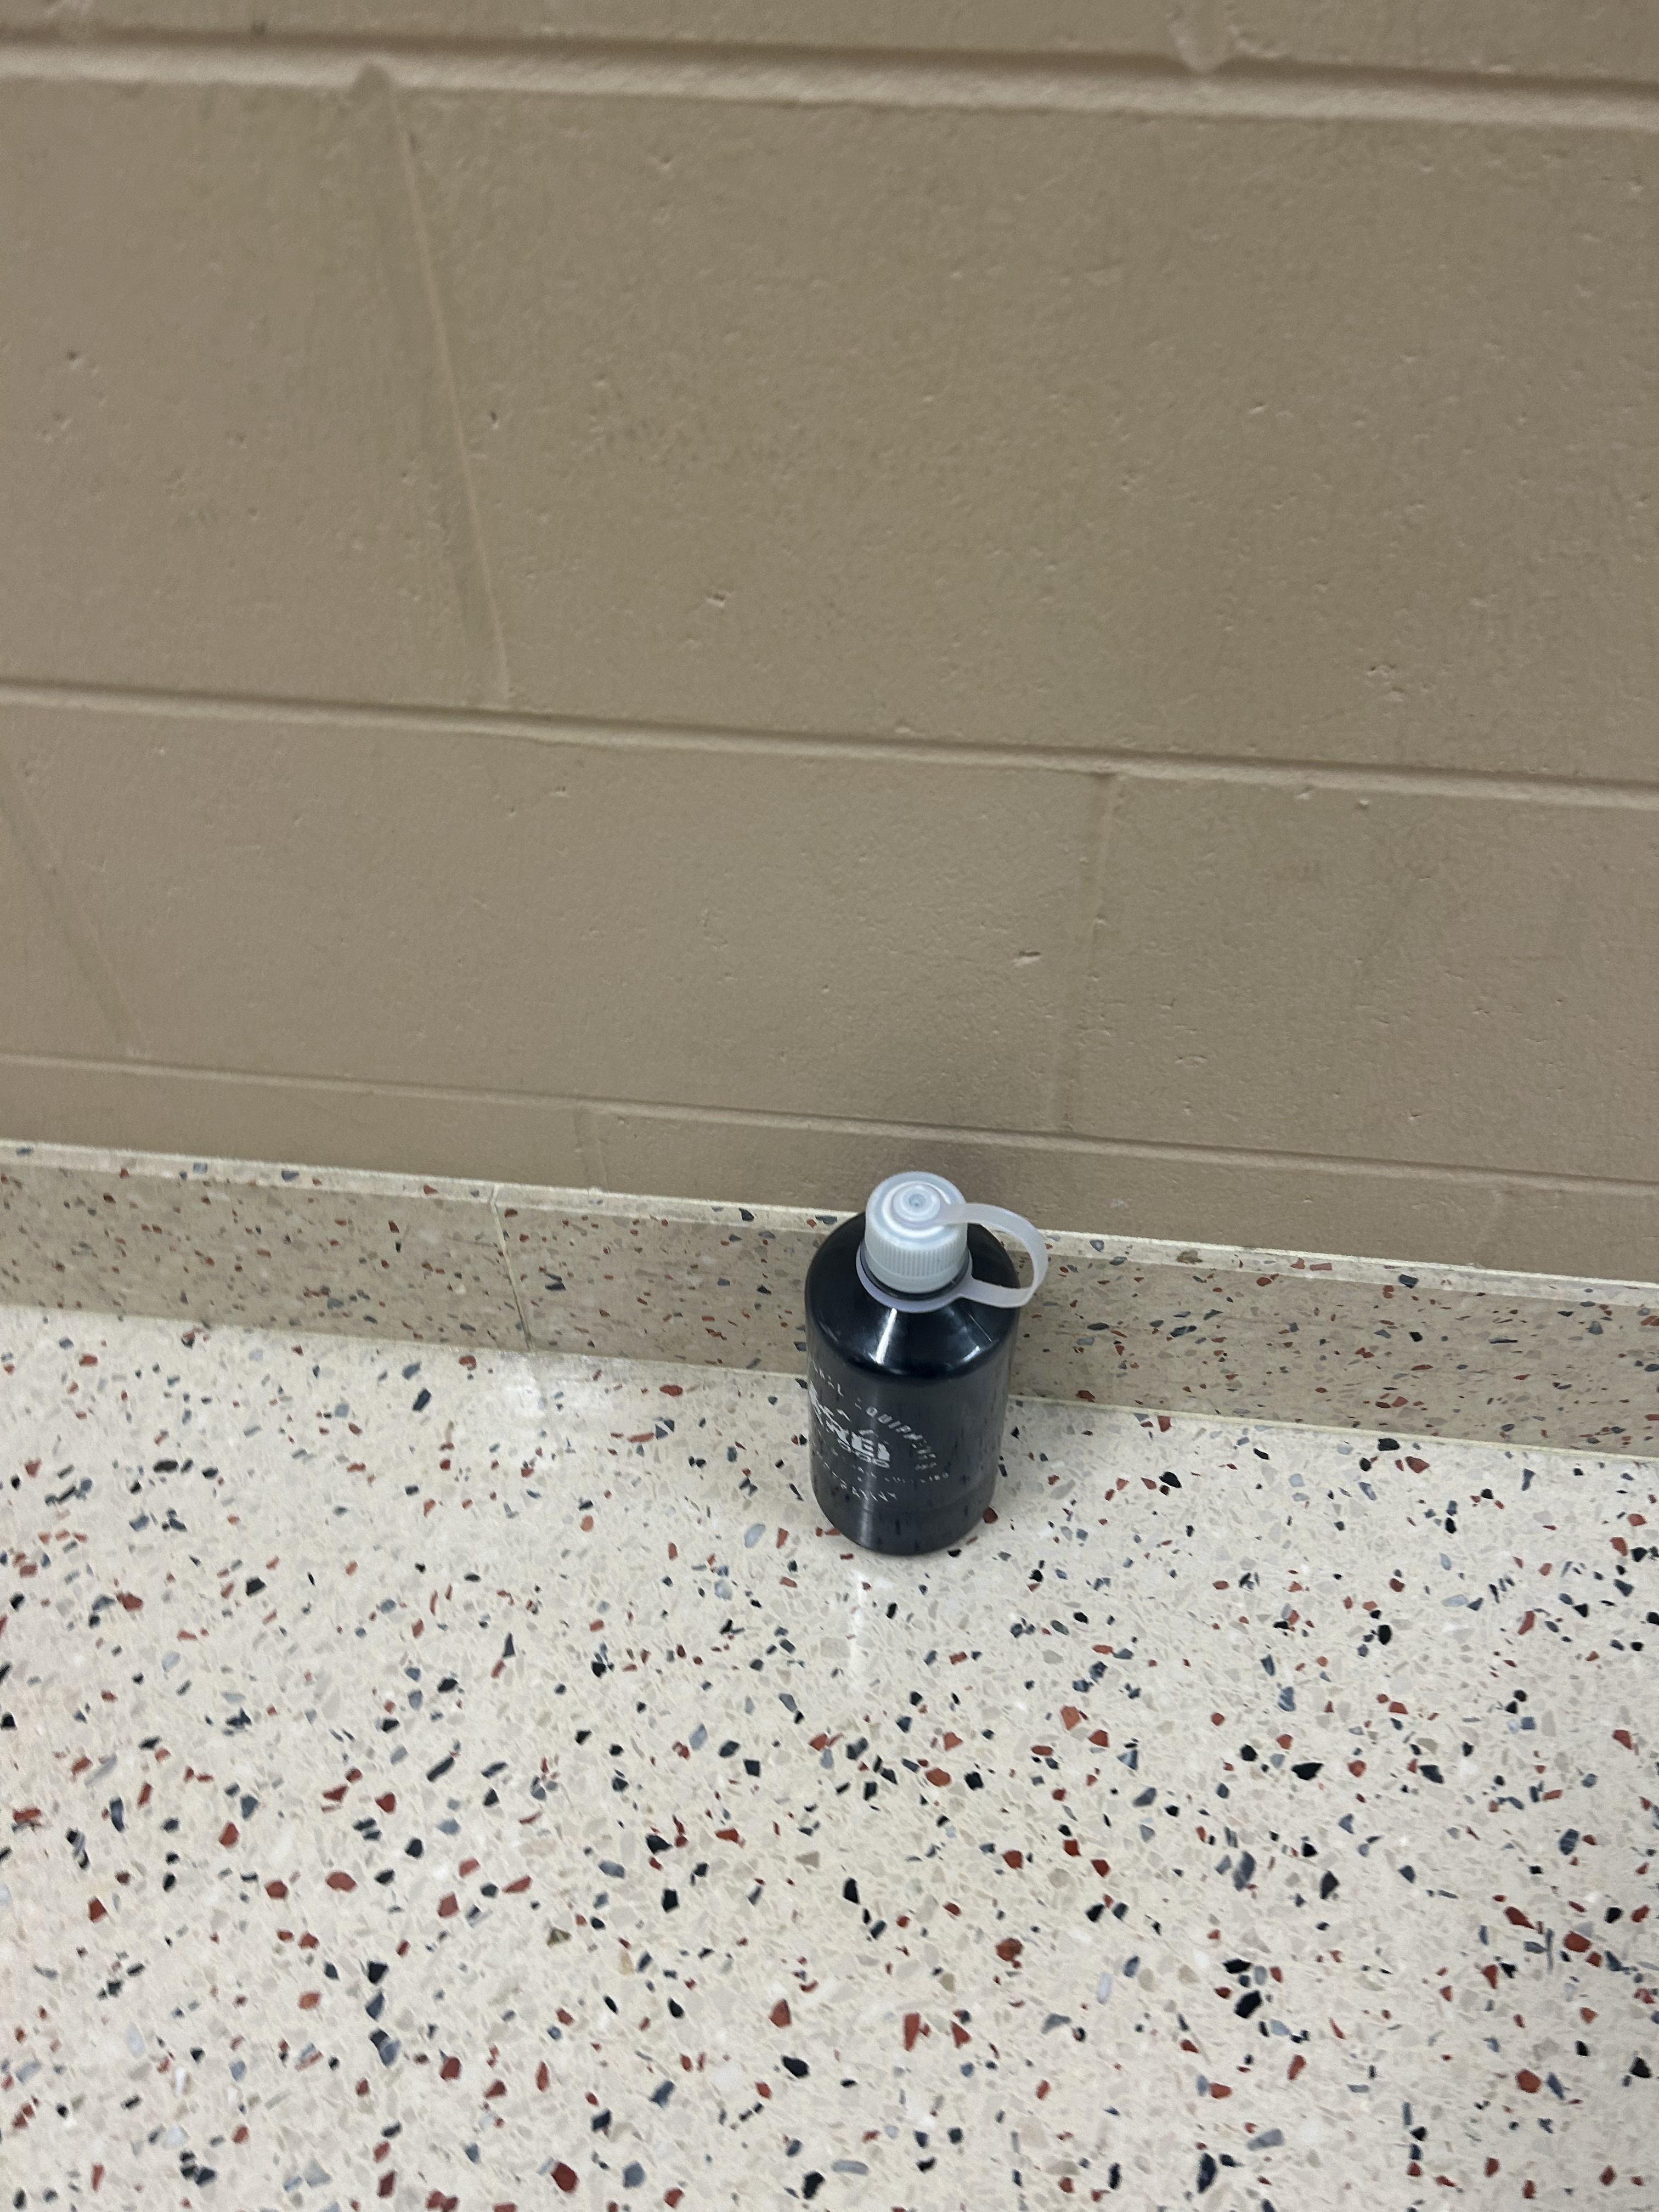bottle: (807, 1158, 1049, 1562)
